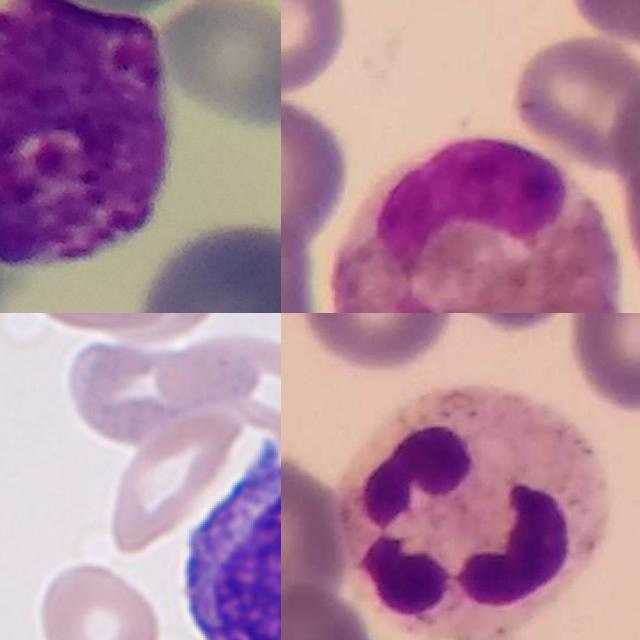Basophil: (0, 0, 171, 268)
Eosinophil: (327, 135, 630, 313)
Lymphocyte: (169, 433, 281, 640)
Neutrophil: (338, 386, 605, 640)
RBC: (102, 408, 248, 556), (31, 555, 166, 640), (146, 330, 264, 410), (95, 313, 230, 344), (15, 313, 182, 337)
